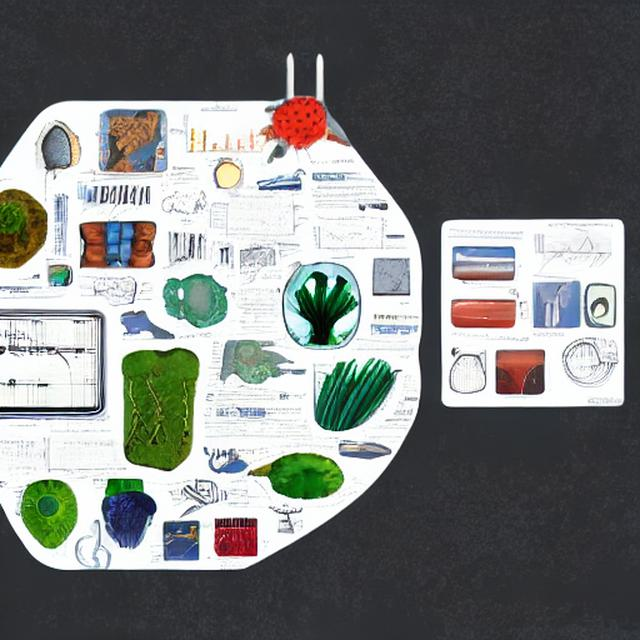Graph: (531, 220, 614, 274), (172, 108, 258, 158), (39, 428, 120, 477), (72, 173, 153, 219), (216, 195, 291, 242), (311, 216, 377, 255)
